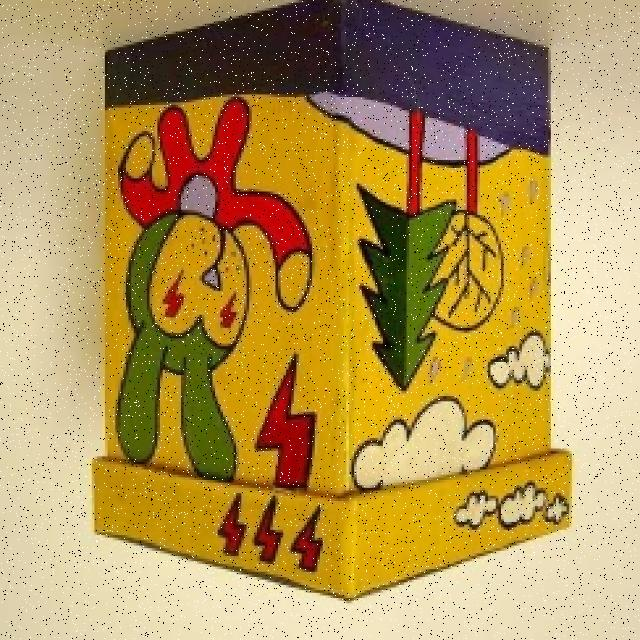box: (73, 0, 598, 556)
